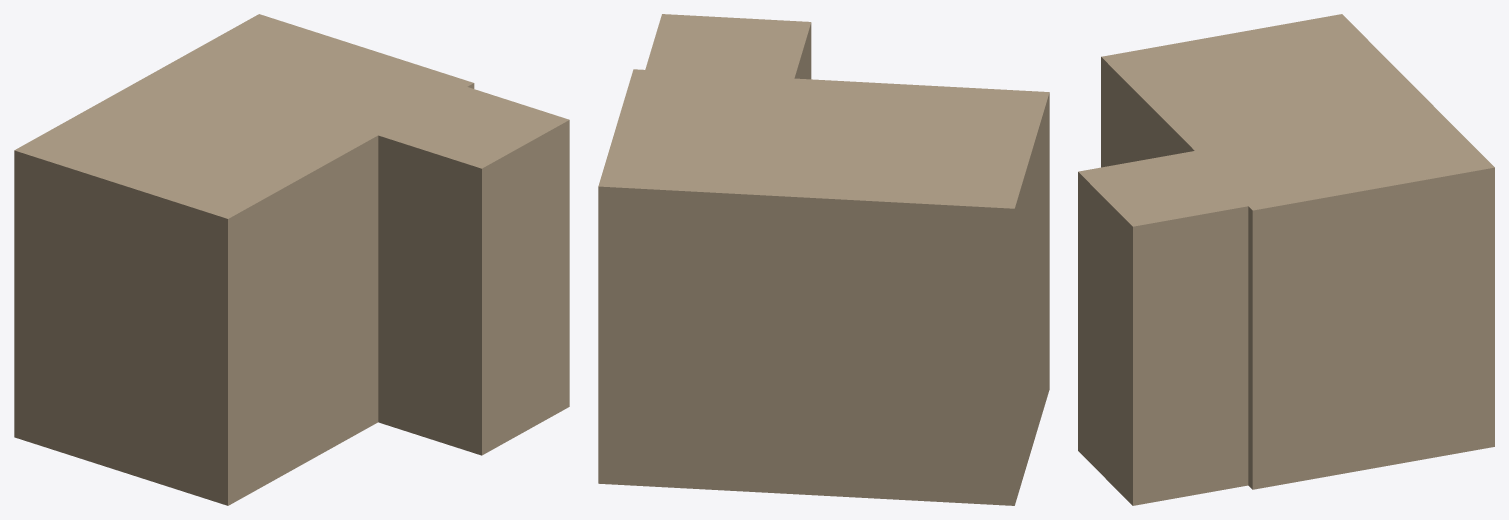
The model's file is bld_106796593.dae.
The picture shows the model from 3 angles, left to right: view 1: azimuth 30°, elevation 25°; view 2: azimuth 150°, elevation 25°; view 3: azimuth 270°, elevation 25°; orthographic projection. The views are drawn at different scales.
Visible parts, largest first — view 1: bld_106796593; view 2: bld_106796593; view 3: bld_106796593.
Part boxes in pixels (x1=…): bld_106796593: x1=14, y1=14, x2=569, y2=505; bld_106796593: x1=598, y1=14, x2=1049, y2=505; bld_106796593: x1=1078, y1=14, x2=1494, y2=505.
Size of the model in its own units: 13.07 by 10.83 by 8.
